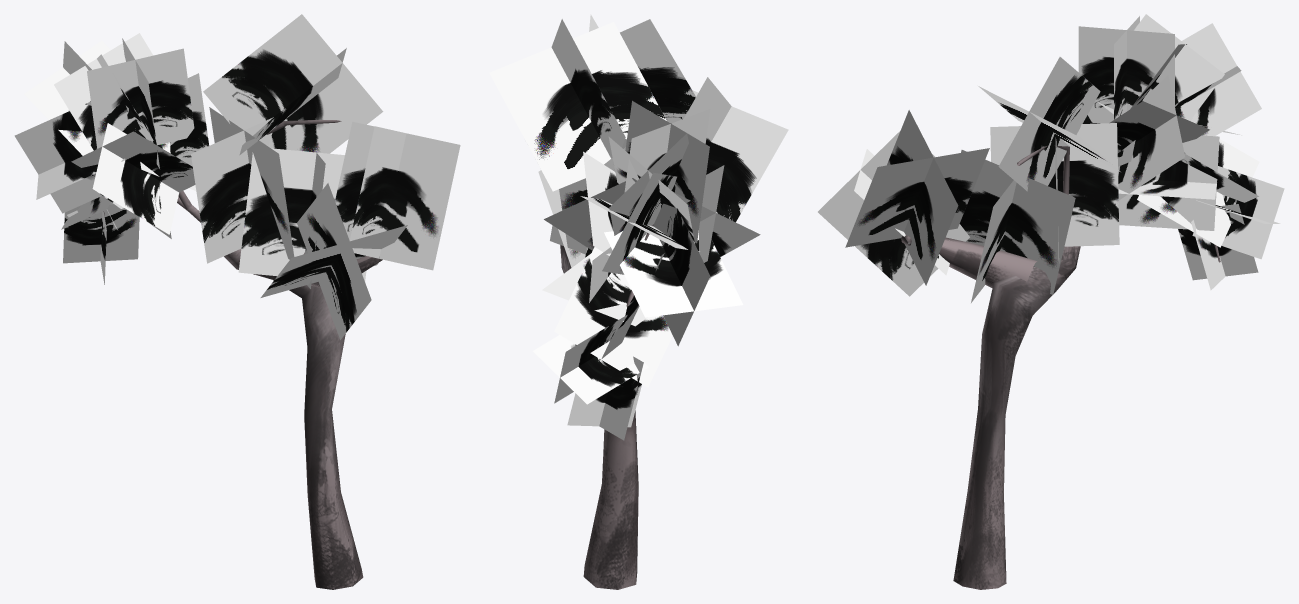
Rendered from Tree_D_freezed.fbx.
3 renders of one model, left to right at view 1: azimuth 30°, elevation 25°; view 2: azimuth 150°, elevation 25°; view 3: azimuth 270°, elevation 25°, orthographic. The views are drawn at different scales.
Visible parts, largest first — view 1: leaf_D_Rev, leaf_D1, tree_D_trunk; view 2: leaf_D_Rev, leaf_D1, tree_D_trunk; view 3: leaf_D1, leaf_D_Rev, tree_D_trunk.
Boxes of the visible parts, x1=… form: leaf_D_Rev: x1=24, y1=14, x2=460, y2=339; leaf_D1: x1=14, y1=41, x2=410, y2=320; tree_D_trunk: x1=103, y1=120, x2=382, y2=589; leaf_D_Rev: x1=489, y1=14, x2=788, y2=438; leaf_D1: x1=544, y1=19, x2=760, y2=440; tree_D_trunk: x1=560, y1=224, x2=653, y2=589; leaf_D1: x1=818, y1=16, x2=1266, y2=302; leaf_D_Rev: x1=818, y1=14, x2=1284, y2=294; tree_D_trunk: x1=901, y1=145, x2=1220, y2=589.
Bounding box in the file's own units: 76.54 × 131 × 104.
